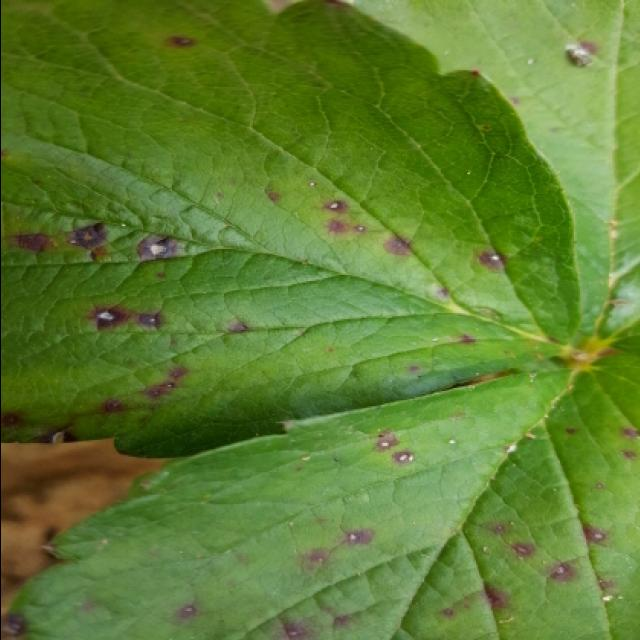Leaf Spot: (2, 0, 579, 460), (2, 349, 640, 638), (344, 0, 640, 355)
